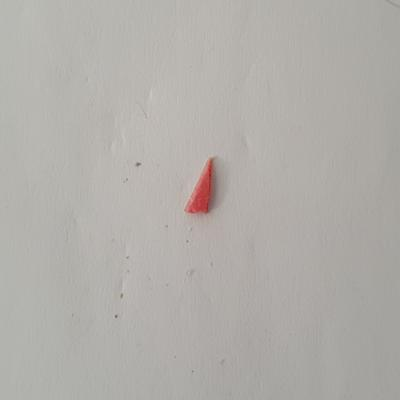plastic: (182, 152, 221, 217)
